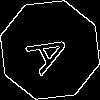A: (25, 25, 82, 78)
